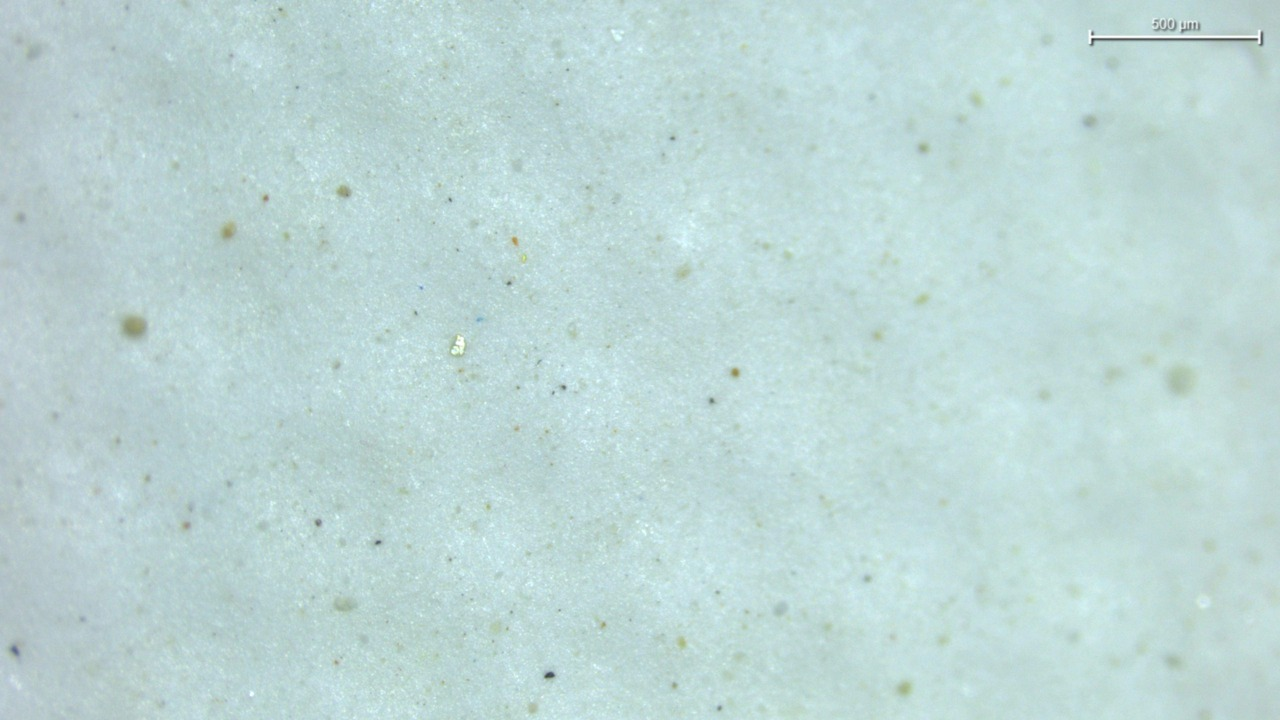microplastic_fragment: (450, 335, 465, 355)
